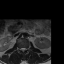CCS_normal: (22, 46, 24, 54)
LFS_normal: (26, 46, 27, 51)
LLS_normal: (24, 46, 26, 52)
RFS_normal: (18, 46, 20, 51)
RLS_normal: (20, 46, 22, 52)
